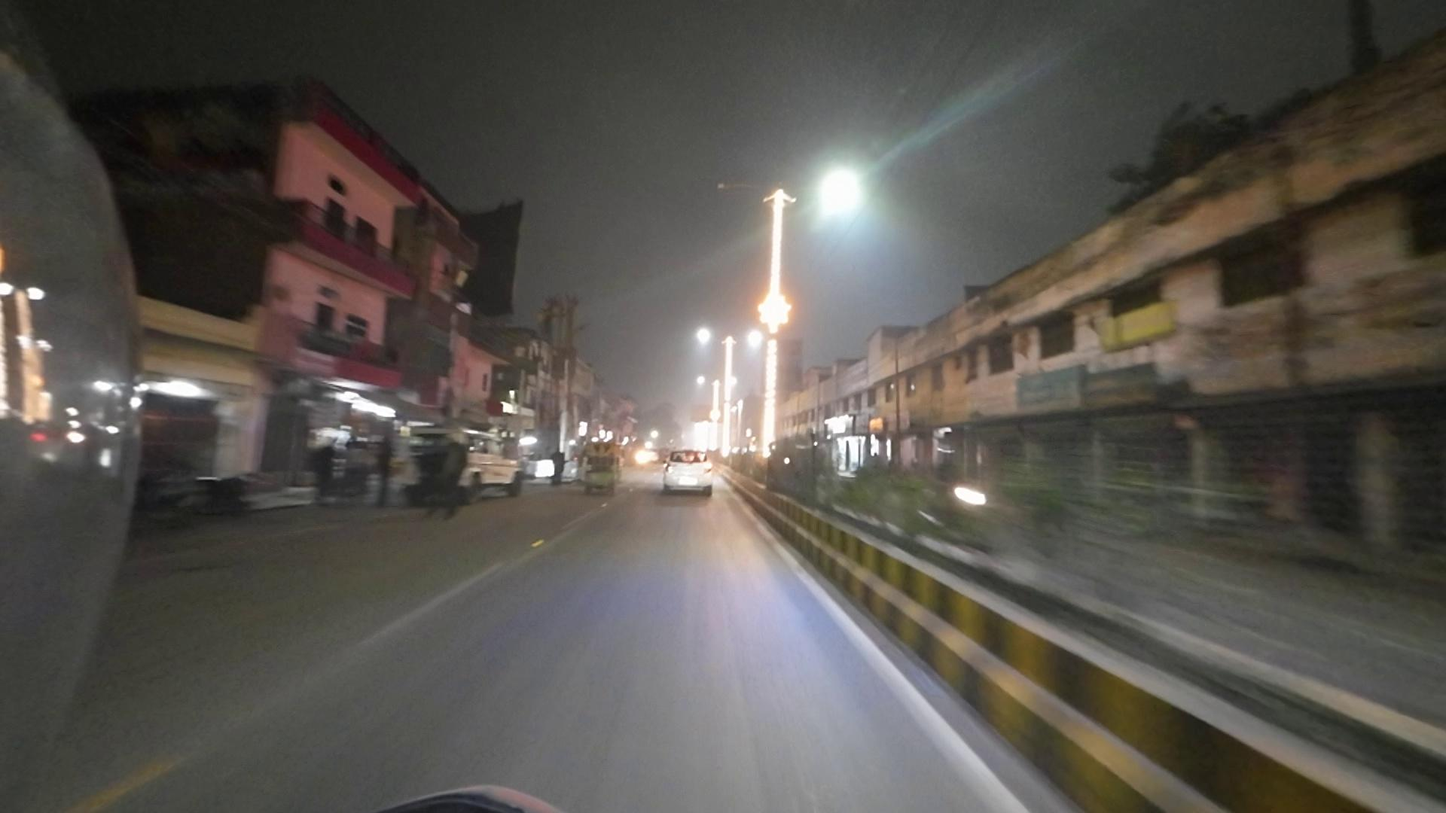streetlight: (711, 176, 770, 195)
